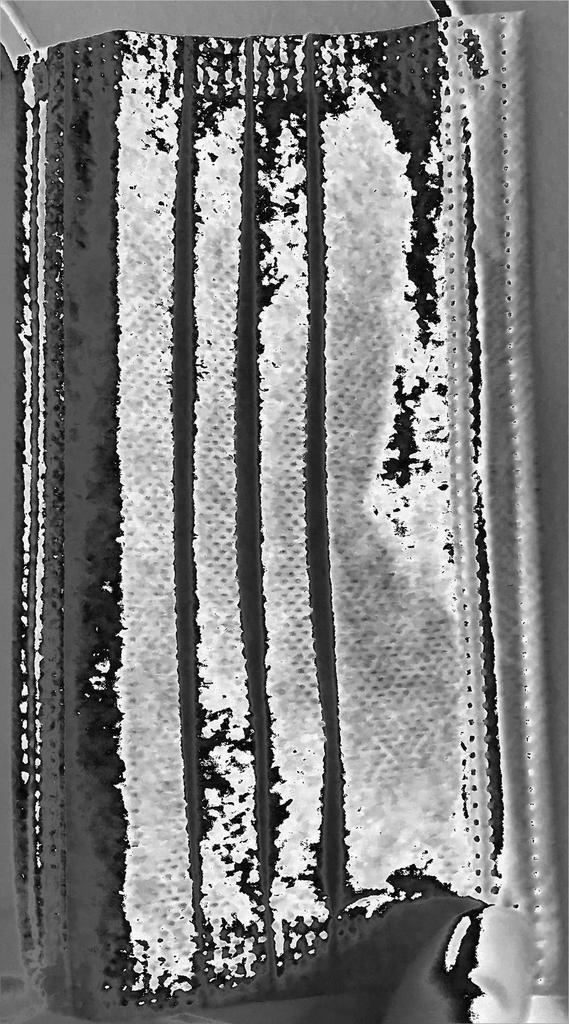High GSM: (116, 9, 497, 888)
